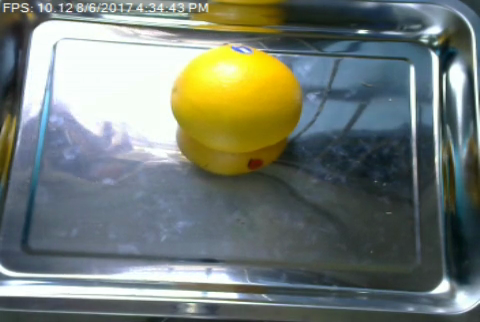Orange: (171, 43, 303, 153)
